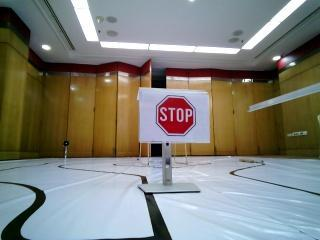stop: (146, 91, 200, 138)
